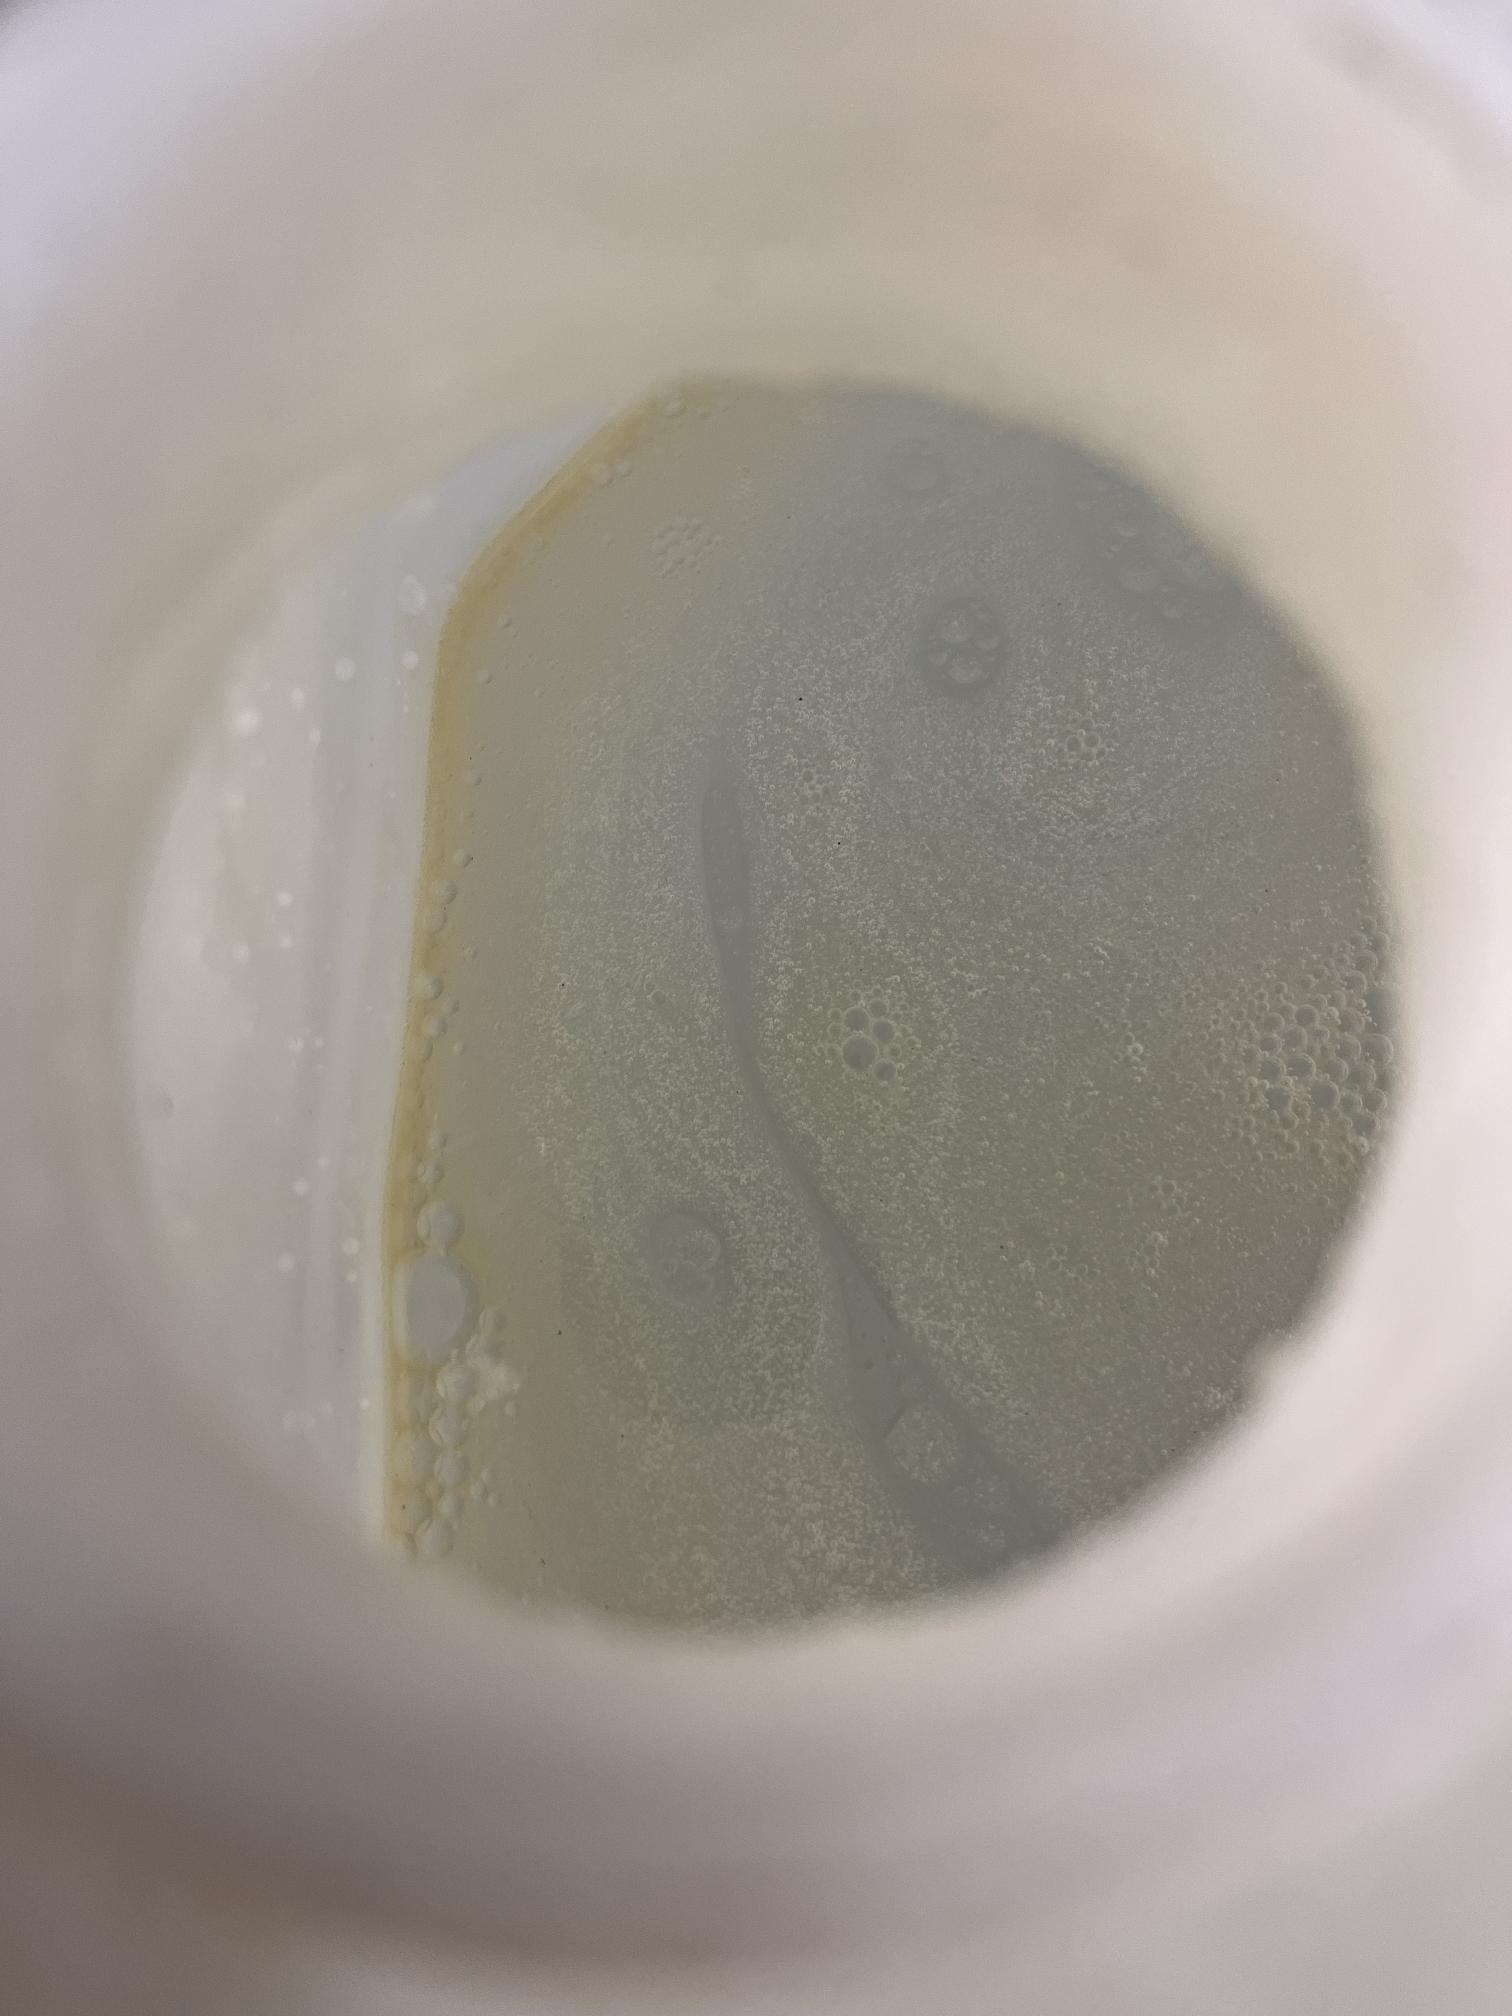Presenca de Oleo - - 20ml: (110, 325, 1445, 1740)
